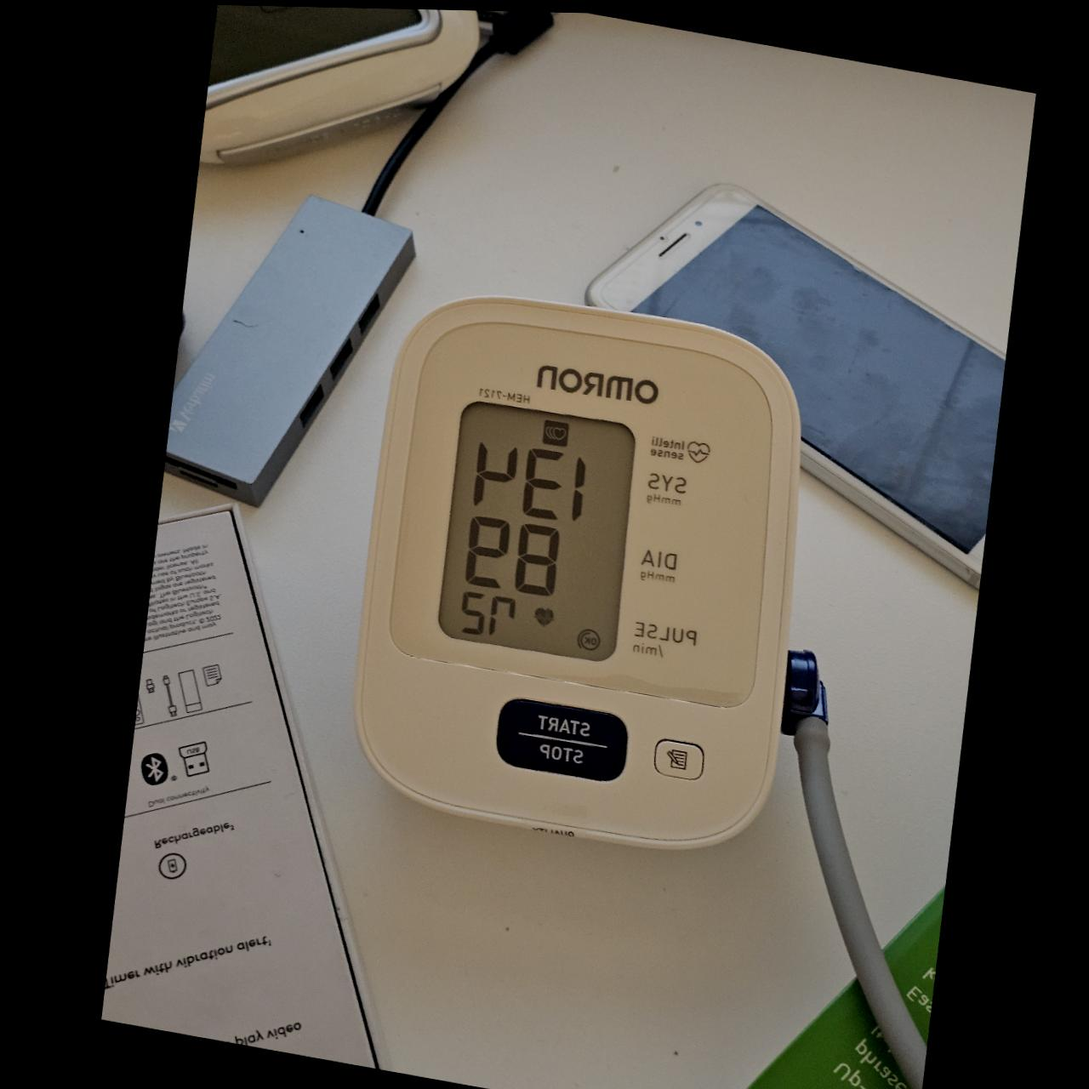blood pressure monitor: (316, 265, 854, 878)
